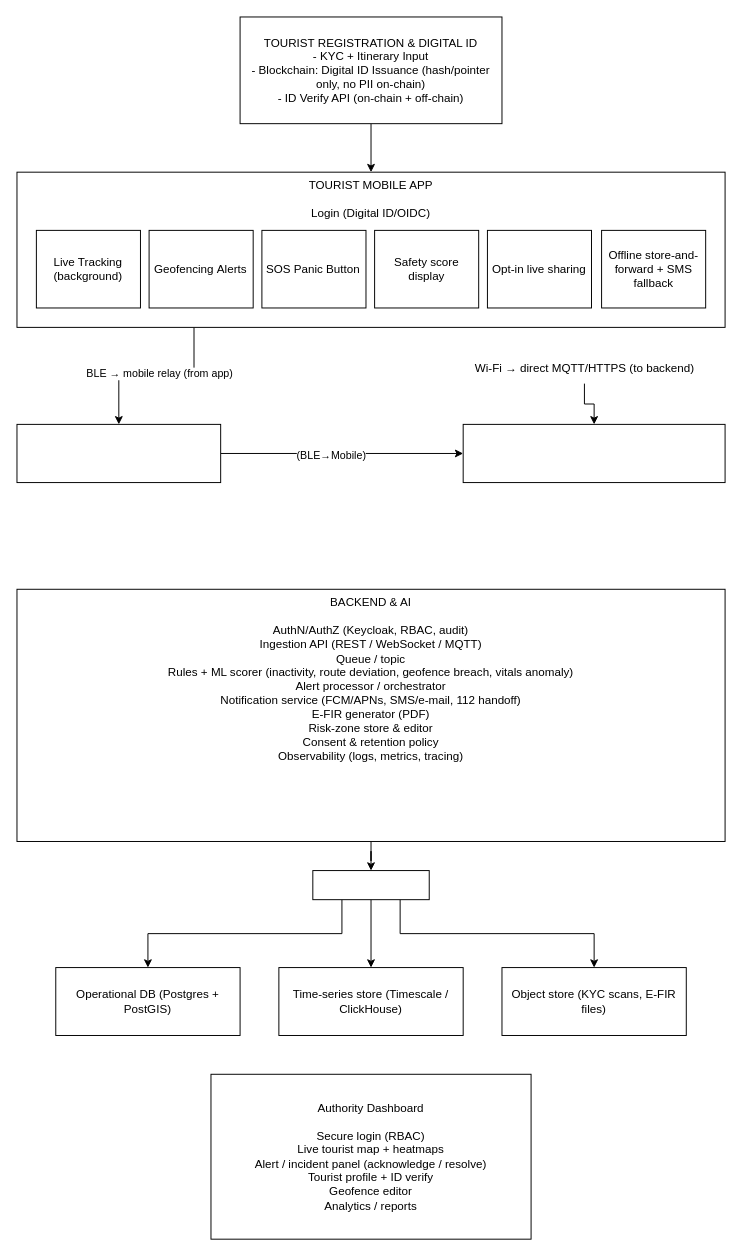
Some shapes in this 742 by 1256 pixel diagram are drawn without their labels. The shapes that lost their labels are listed below. From the top down, each one's centre as x and y in pixels, then its label:
At point (118, 453): "SOS button Vitals / accelerometer signals".
At point (593, 453): "Device registry (maps deviceID ↔ touristID) MQTT broker".
At point (370, 885): "Object Stores".
